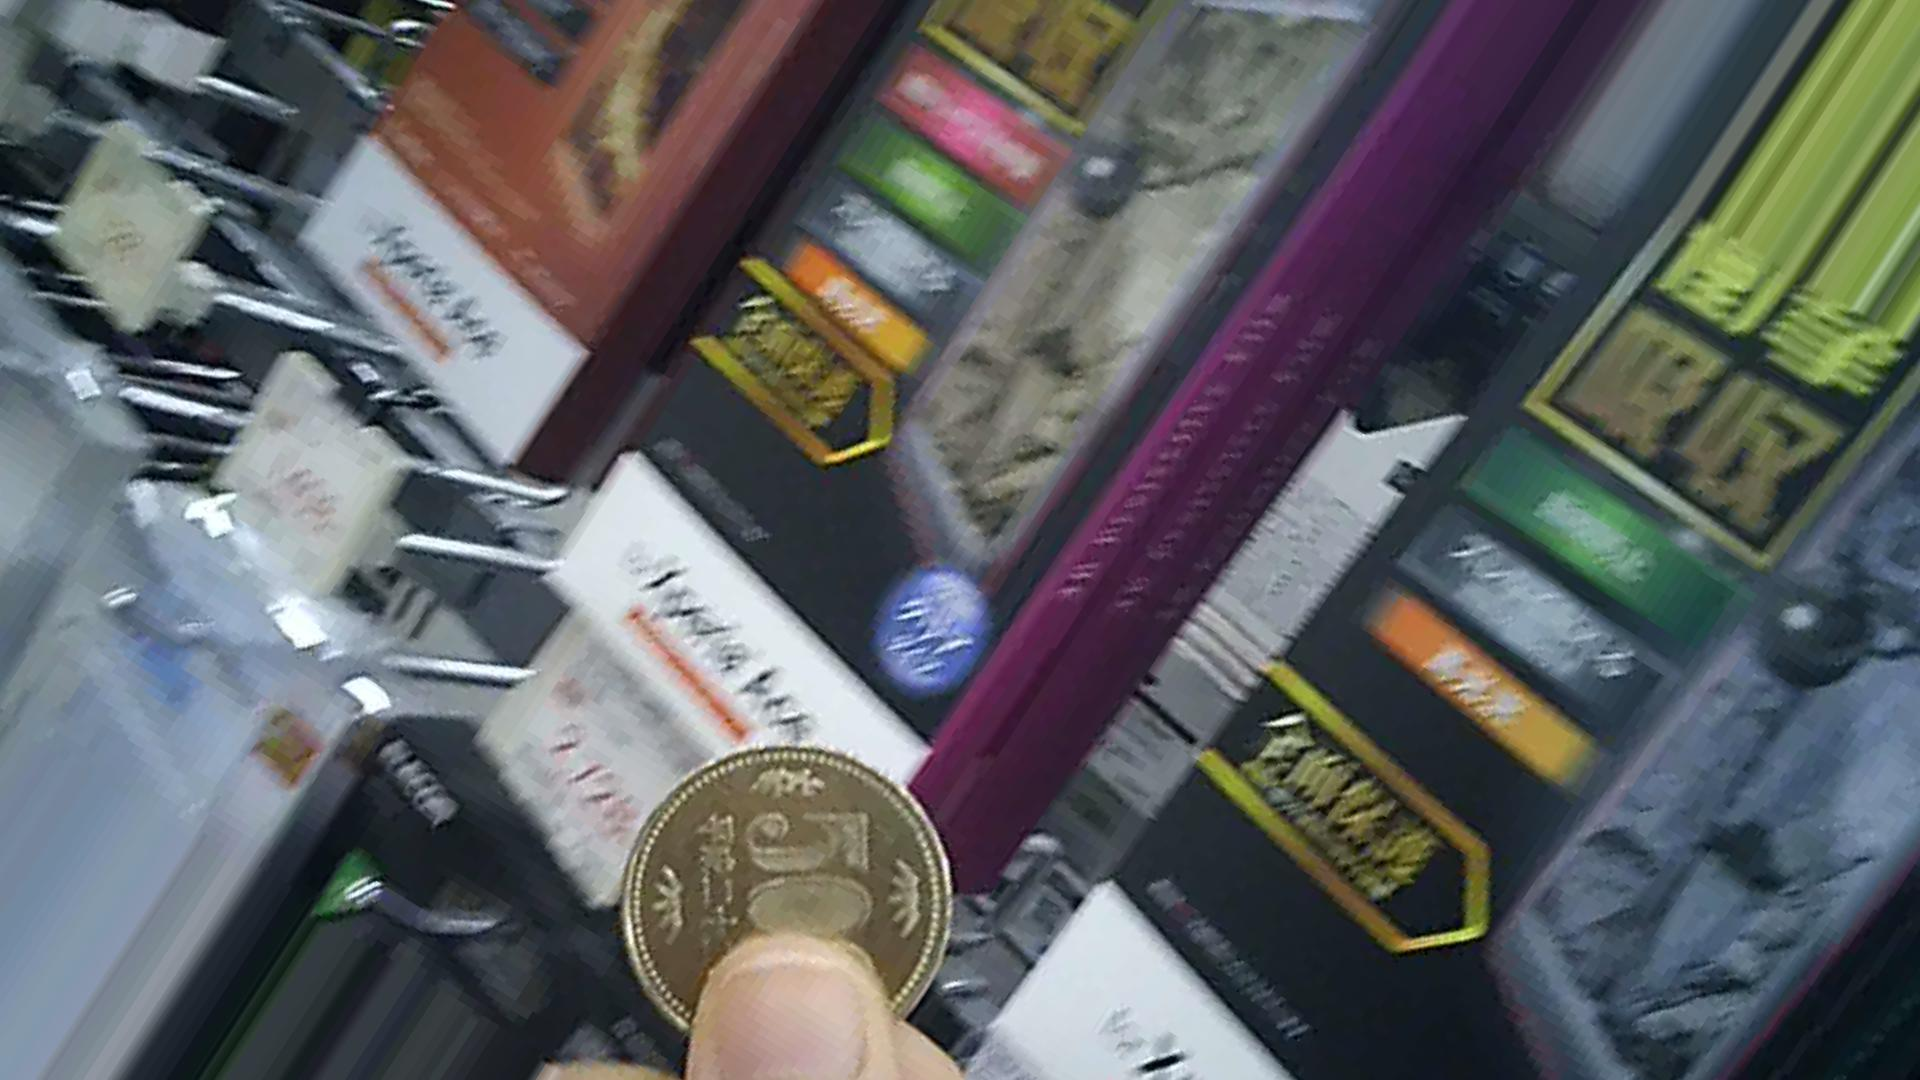500 Yen: (612, 744, 975, 1051)
